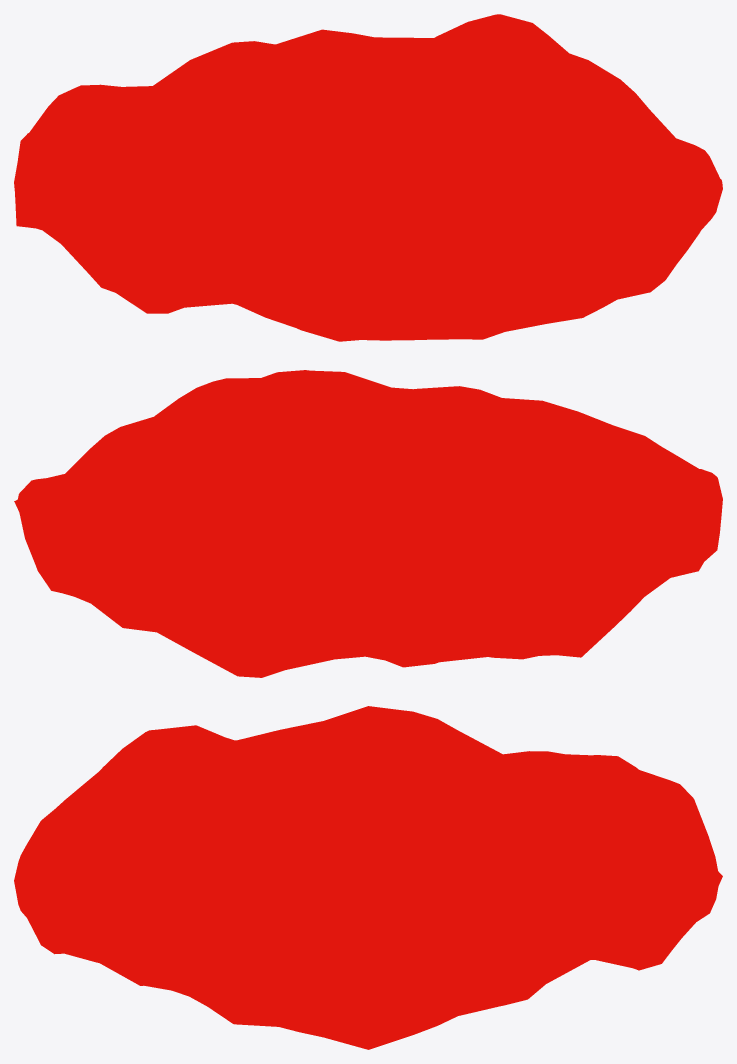
Rendered from SM_Boil.fbx.
3 renders of one model, top to bottom at view 1: azimuth 30°, elevation 25°; view 2: azimuth 150°, elevation 25°; view 3: azimuth 270°, elevation 25°, orthographic.
Visible parts, largest first — view 1: Boil; view 2: Boil; view 3: Boil.
Boxes of the visible parts, x1=… form: Boil: x1=14, y1=14, x2=722, y2=341; Boil: x1=14, y1=370, x2=722, y2=677; Boil: x1=14, y1=706, x2=722, y2=1049.
Size of the model in its own units: 127 by 14.71 by 127.
